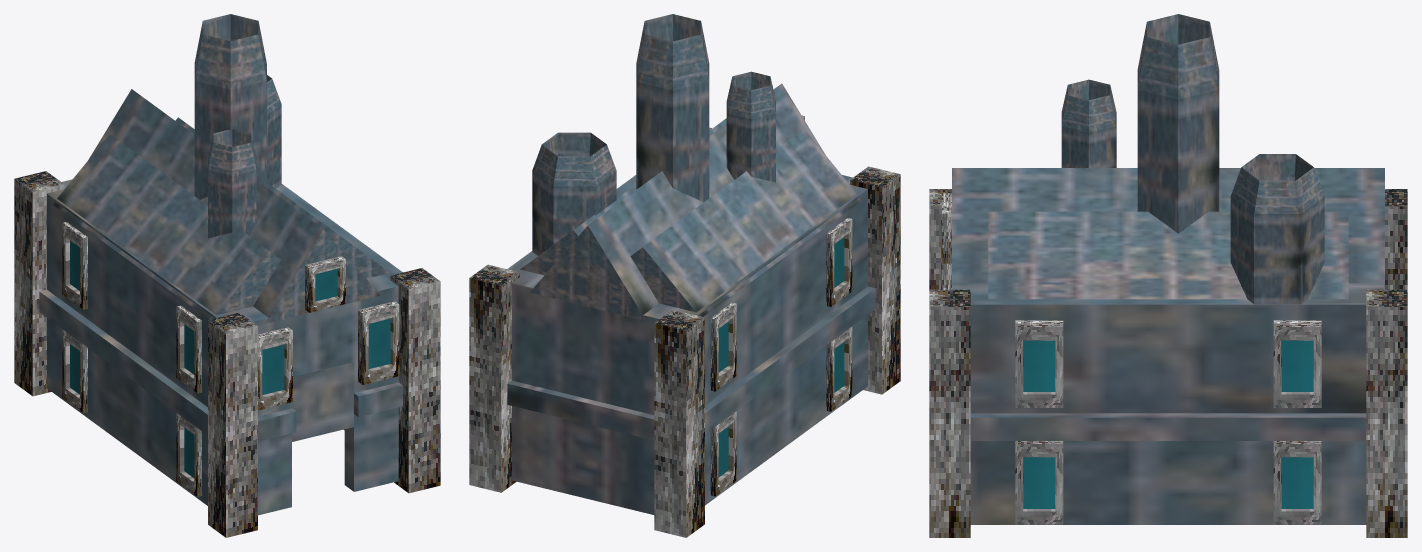
Rendered from factory.fbx.
3 views of the same model, side by side, from view 1: azimuth 30°, elevation 25°; view 2: azimuth 150°, elevation 25°; view 3: azimuth 270°, elevation 25° (orthographic). The views are drawn at different scales.
Parts seen in each view (by area): view 1: pCube1, pCylinder3, pCylinder1, pCube2, pTorus3, pCube3, pCube12, pCube5, pTorus1, pCube6, pCube7, pCube14 (+2 smaller); view 2: pCube1, pCylinder3, pCylinder1, pTorus3, pCube5, pCube4, pCube12, pTorus2, pCube2, pTorus1, pCylinder2; view 3: pCube1, pCylinder2, pCylinder1, pCube13, pTorus3, pTorus2, pCube4, pCube3, pTorus1, pCube5, pCube2, pCube14.
Boxes of the visible parts, box(x1,y1,x2,y2) form: pCube1: box(39, 179, 402, 515); pCylinder3: box(52, 134, 280, 319); pCylinder1: box(88, 89, 380, 323); pCube2: box(208, 312, 257, 537); pTorus3: box(194, 14, 266, 199); pCube3: box(390, 268, 440, 493); pCube12: box(62, 222, 201, 496); pCube5: box(14, 171, 64, 396); pTorus1: box(208, 129, 256, 238); pCube6: box(358, 301, 399, 384); pCube7: box(258, 327, 292, 410); pCube14: box(305, 256, 345, 312); pCube1: box(507, 175, 875, 514); pCylinder3: box(630, 129, 862, 316); pCylinder1: box(530, 83, 825, 320); pTorus3: box(636, 14, 709, 202); pCube5: box(654, 310, 704, 537); pCube4: box(469, 264, 519, 492); pCube12: box(710, 218, 852, 496); pTorus2: box(532, 132, 616, 255); pCube2: box(850, 166, 900, 394); pTorus1: box(726, 71, 775, 182); pCylinder2: box(520, 118, 726, 275); pCube1: box(952, 283, 1384, 524); pCylinder2: box(988, 211, 1348, 299); pCylinder1: box(952, 168, 1384, 289); pCube13: box(1015, 320, 1321, 524); pTorus3: box(1137, 14, 1219, 233); pTorus2: box(1230, 154, 1324, 304); pCube4: box(1366, 289, 1407, 537); pCube3: box(929, 289, 970, 537); pTorus1: box(1061, 79, 1116, 167); pCube5: box(1385, 189, 1407, 289); pCube2: box(929, 189, 951, 289); pCube14: box(942, 193, 951, 263).
Size of the model in its own units: 28.17 by 50.43 by 48.17.
